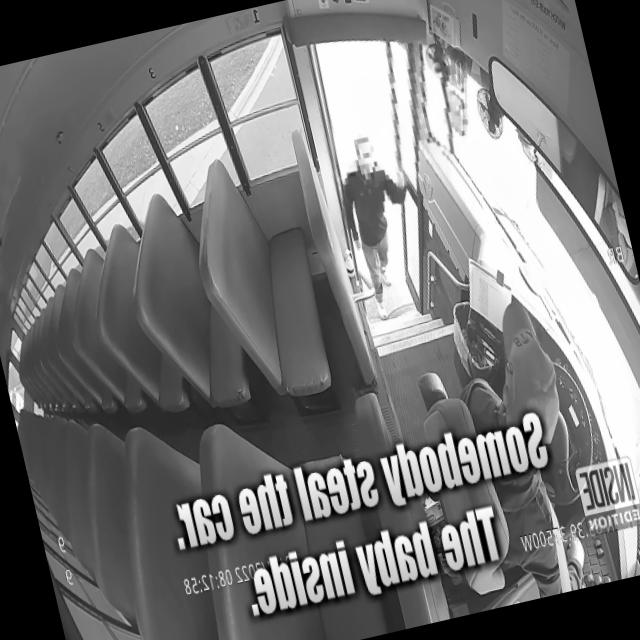bus-door: (385, 40, 422, 310)
